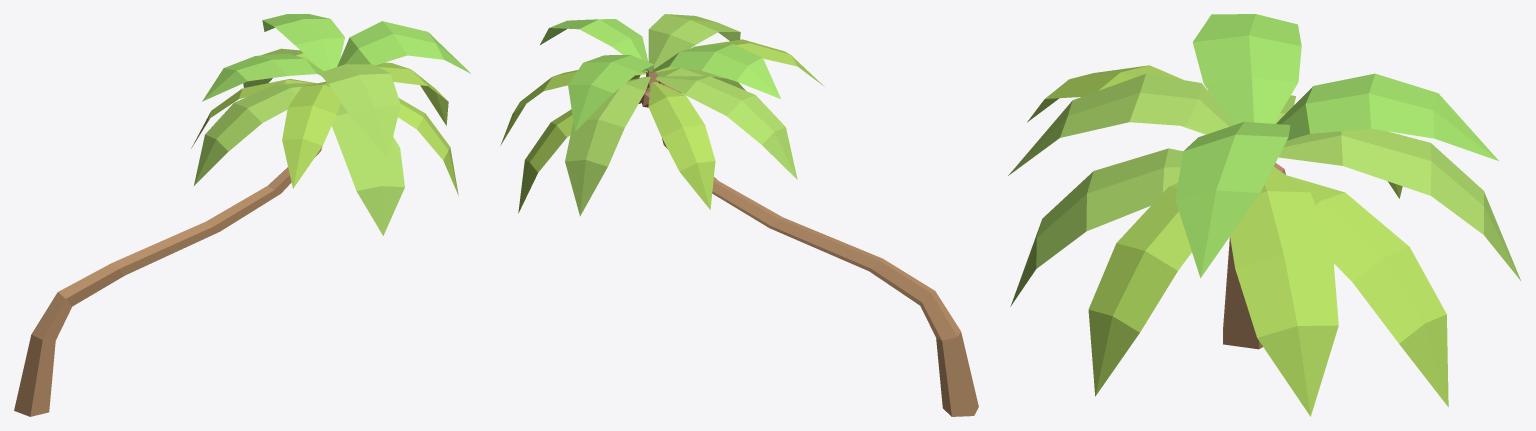
The model's file is Palm_Tree_Coconut_OneSided_l_05_LOD.fbx.
3 views of the same model, side by side, from view 1: azimuth 30°, elevation 25°; view 2: azimuth 150°, elevation 25°; view 3: azimuth 270°, elevation 25° (orthographic). The views are drawn at different scales.
Parts seen in each view (by area): view 1: Palm_Tree_Coconut_OneSided_l_05_LOD0; view 2: Palm_Tree_Coconut_OneSided_l_05_LOD0; view 3: Palm_Tree_Coconut_OneSided_l_05_LOD0.
Part boxes in pixels (box(x1,y1,x2,y2)): Palm_Tree_Coconut_OneSided_l_05_LOD0: box(14, 14, 470, 416); Palm_Tree_Coconut_OneSided_l_05_LOD0: box(500, 14, 978, 416); Palm_Tree_Coconut_OneSided_l_05_LOD0: box(1008, 14, 1520, 416).
Size of what is drawn, in the model's own units: 755 by 470 by 434.
